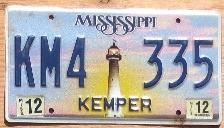3: (140, 38, 165, 89), (166, 38, 190, 90)
4: (65, 35, 90, 89)
5: (191, 38, 215, 90)
K: (13, 34, 39, 88)
M: (39, 34, 63, 90)
